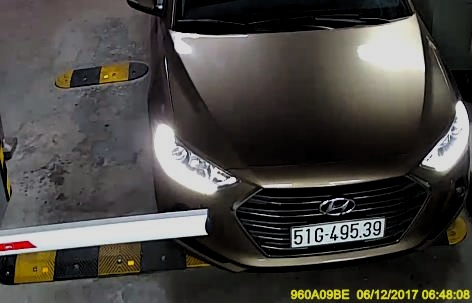plate: (285, 219, 385, 247)
